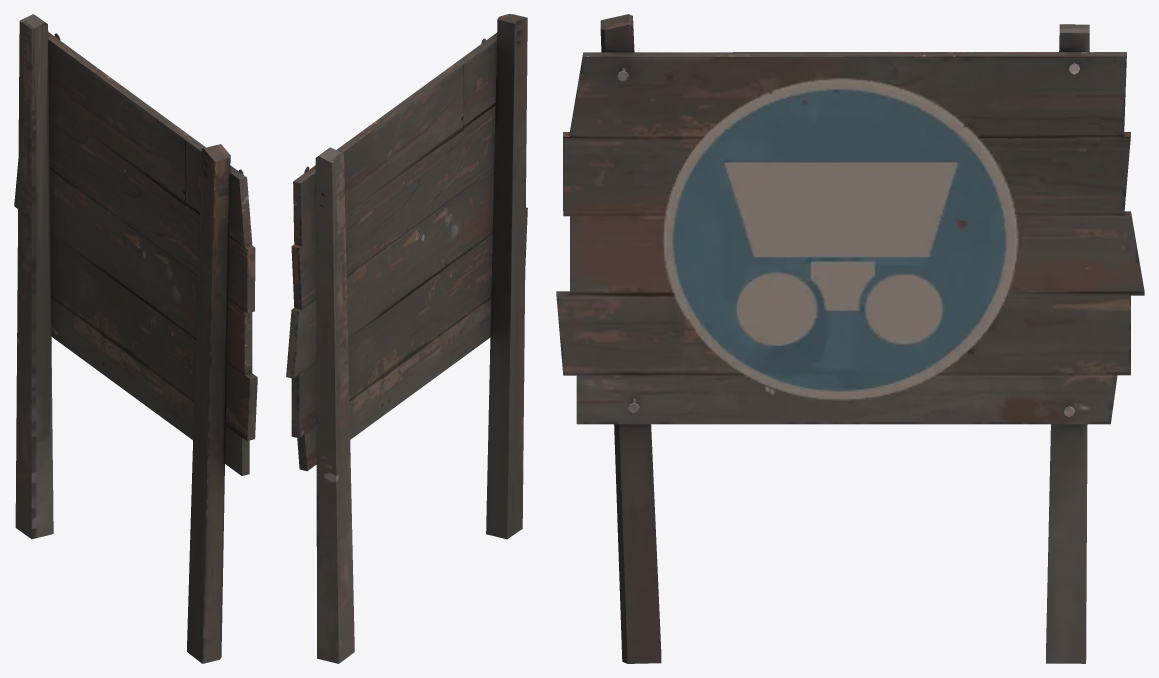
The picture shows the model from 3 angles, left to right: view 1: azimuth 30°, elevation 25°; view 2: azimuth 150°, elevation 25°; view 3: azimuth 270°, elevation 25°; orthographic projection. The views are drawn at different scales.
Parts seen in each view (by area): view 1: body0_model0_lod0_mesh0; view 2: body0_model0_lod0_mesh0; view 3: body0_model0_lod0_mesh0.
Boxes of the visible parts, x1,y1,x2,y2 form: body0_model0_lod0_mesh0: [14, 14, 257, 663]; body0_model0_lod0_mesh0: [286, 14, 527, 663]; body0_model0_lod0_mesh0: [556, 14, 1144, 663].
Bounding box in the file's own units: 11.74 × 143 × 119.
Materials: 1 (1 with a texture image).
